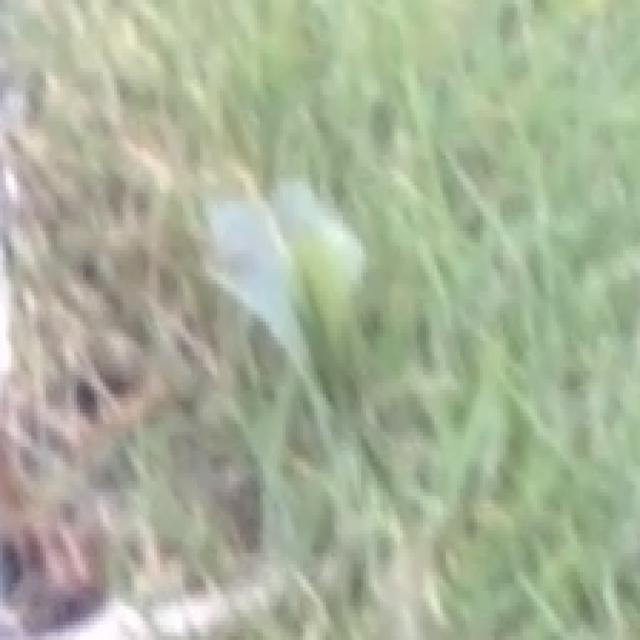organic waste: (131, 140, 504, 497)
